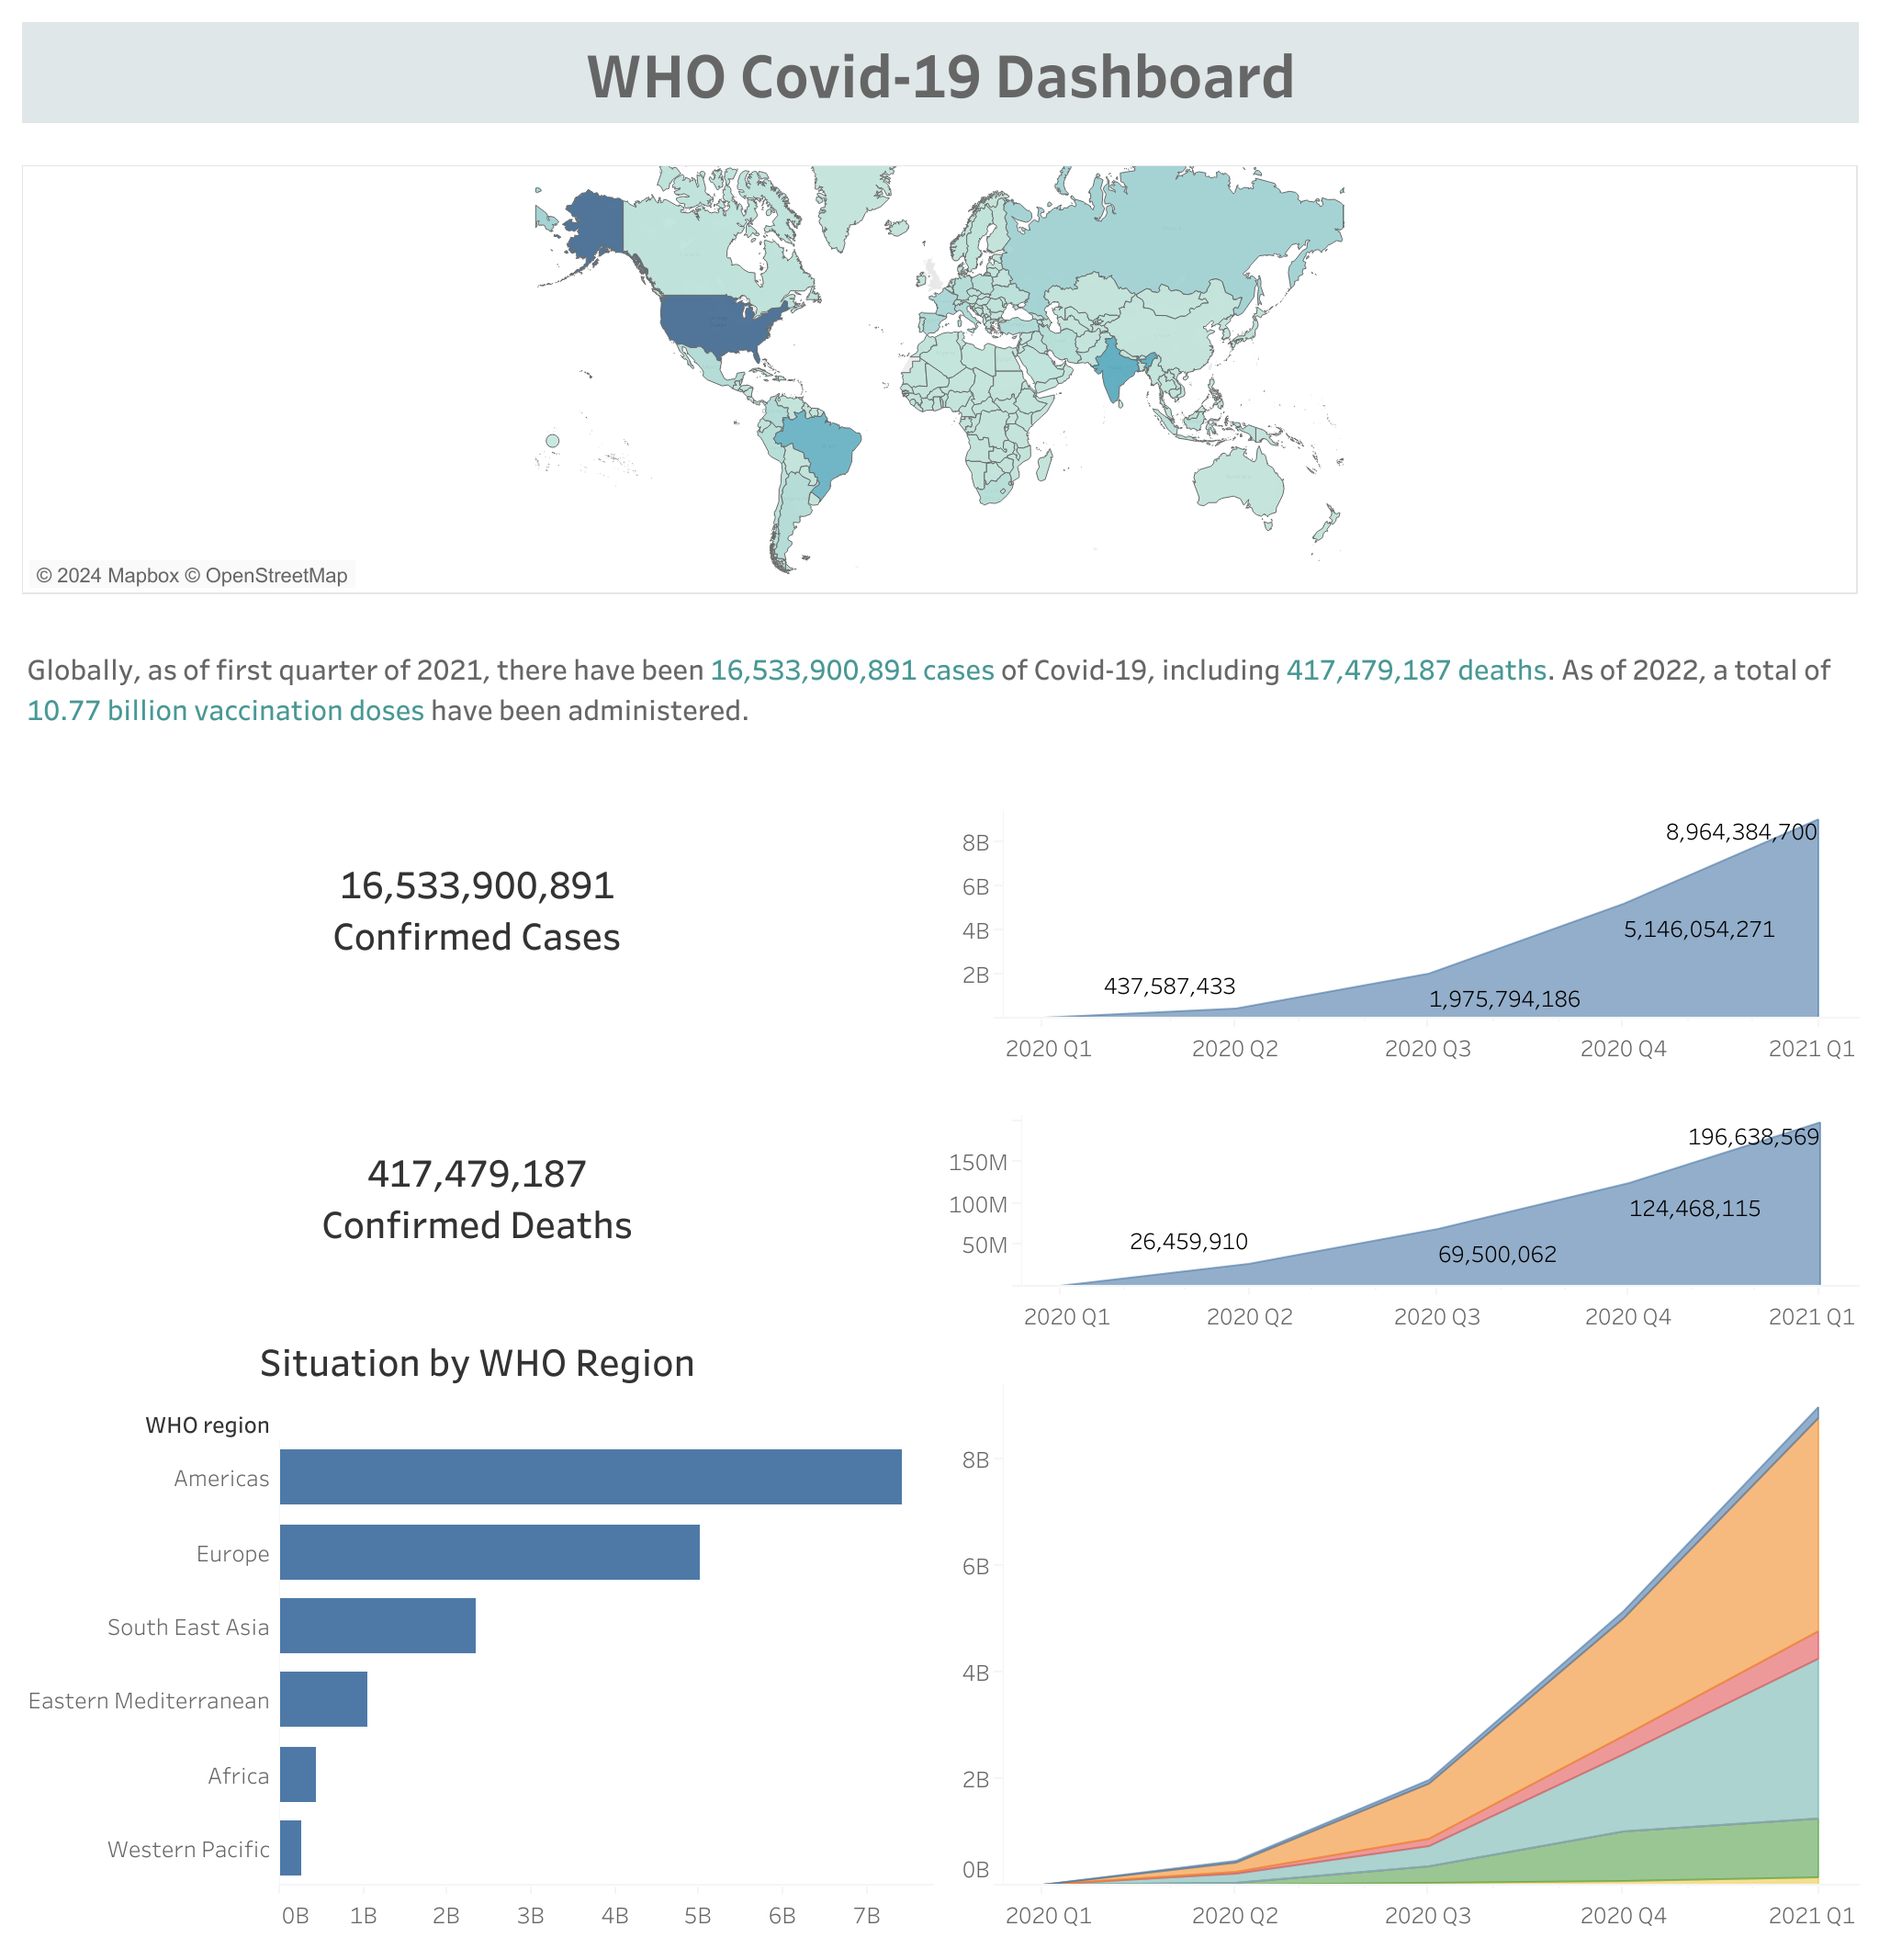

The page's visual inventory and layout, read from the dashboard file:
{"tool":"tableau","page":{"name":"WHO Covid-19 Dashboard","canvas":[1024,1068],"ordinal":0},"visuals":[{"type":"text","box":[8,8,1008,62.9]},{"type":"worksheet","title":"Cases map","mark":"Automatic","box":[8,70.9,1008,257.4]},{"type":"text","box":[8,328.3,1008,93.7]},{"type":"worksheet","title":"Confirmed Cases","mark":"Automatic","box":[8,422.1,504,131.5]},{"type":"worksheet","title":"Confirmed Cases map","mark":"Area","rows":["Cumulative_cases"],"cols":["Date_reported"],"box":[512,422.1,504,165.7]},{"type":"worksheet","title":"Confirmed Deaths","mark":"Automatic","box":[8,553.6,504,163.1]},{"type":"worksheet","title":"Confirmed Deaths map","mark":"Area","rows":["Cumulative_deaths"],"cols":["Date_reported"],"box":[512,587.8,504,146]},{"type":"worksheet","title":"Situation by WHO Region","mark":"Automatic","rows":["WHO_region"],"cols":["Cumulative_cases"],"box":[8,716.7,504,343.3]},{"type":"worksheet","title":"Quarterly Situation by WHO Region ","mark":"Area","rows":["Cumulative_cases"],"cols":["Date_reported"],"box":[512,733.8,504,326.2]},{"type":"legend","title":"Quarterly Situation by WHO Region ","param":"[federated.010z95o102qnl31ehhux3097pf3w].[none:WHO_region:nk]","box":[613,831.6,192,205.8]}]}

Visuals, with their boxes in screenshot pixels (x1, y1, x2, y2), scaled from the page's 1024x1068 canvas onto the 1879x1960 screenshot:
text: [15, 15, 1864, 130]
"Cases map" worksheet: [15, 130, 1864, 603]
text: [15, 603, 1864, 774]
"Confirmed Cases" worksheet: [15, 774, 939, 1016]
"Confirmed Cases map" worksheet (Area marks): [939, 774, 1864, 1078]
"Confirmed Deaths" worksheet: [15, 1016, 939, 1315]
"Confirmed Deaths map" worksheet (Area marks): [939, 1078, 1864, 1346]
"Situation by WHO Region" worksheet: [15, 1315, 939, 1945]
"Quarterly Situation by WHO Region " worksheet (Area marks): [939, 1346, 1864, 1945]
"Quarterly Situation by WHO Region " legend: [1125, 1526, 1477, 1904]
